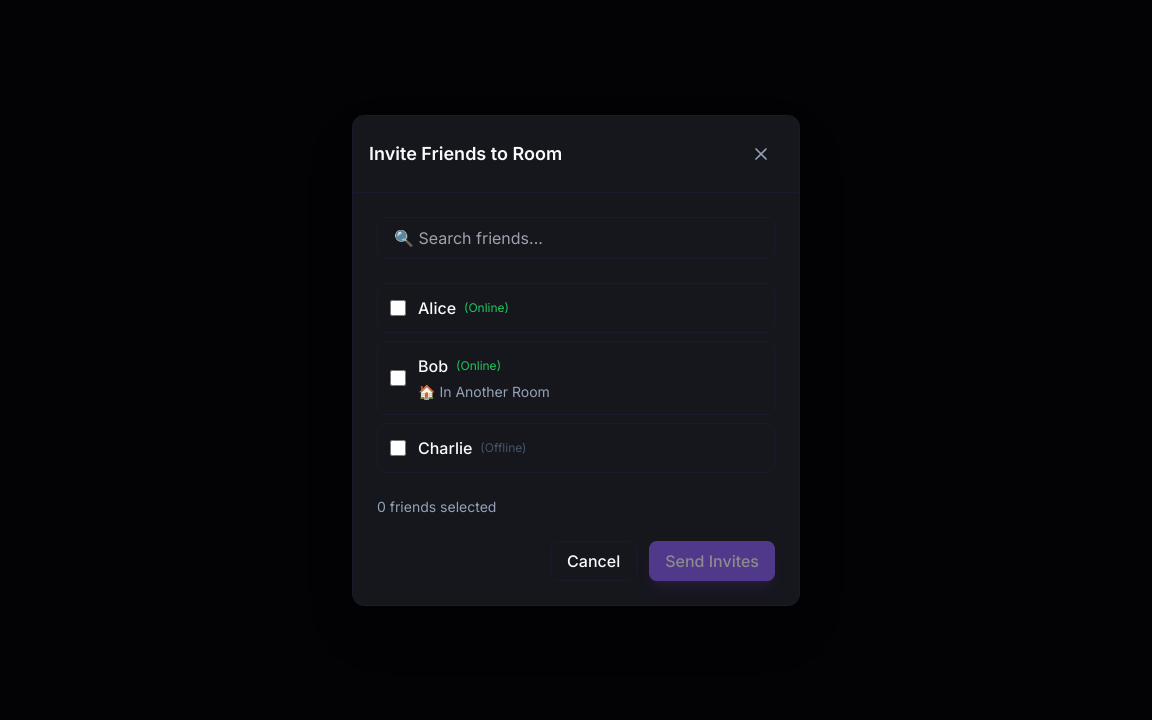
Test: RoomInviteModal › should filter friends by search query
The image size is (1152, 720).
Type "ali" into the field with placeholder "🔍 Search friends...". click: point(576, 238)
box: [377,216,775,258]
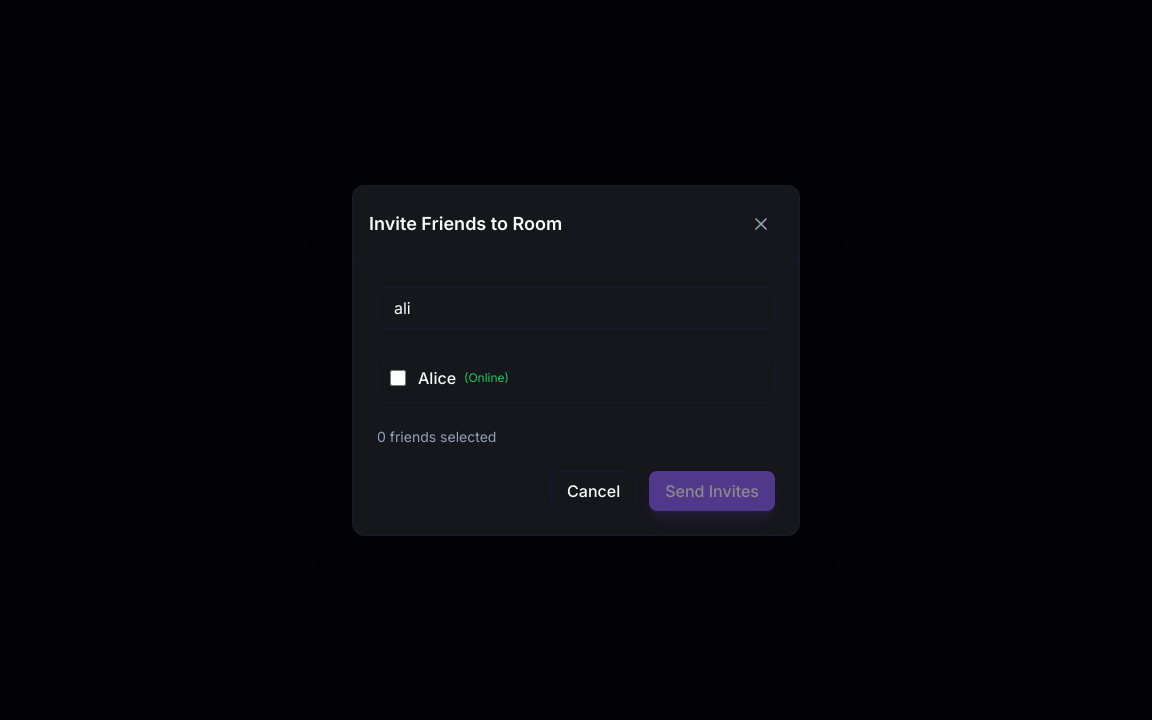
Check: the text "Alice" is shown, box [418,366,456,390]
Check: the text "Bob" is gone
